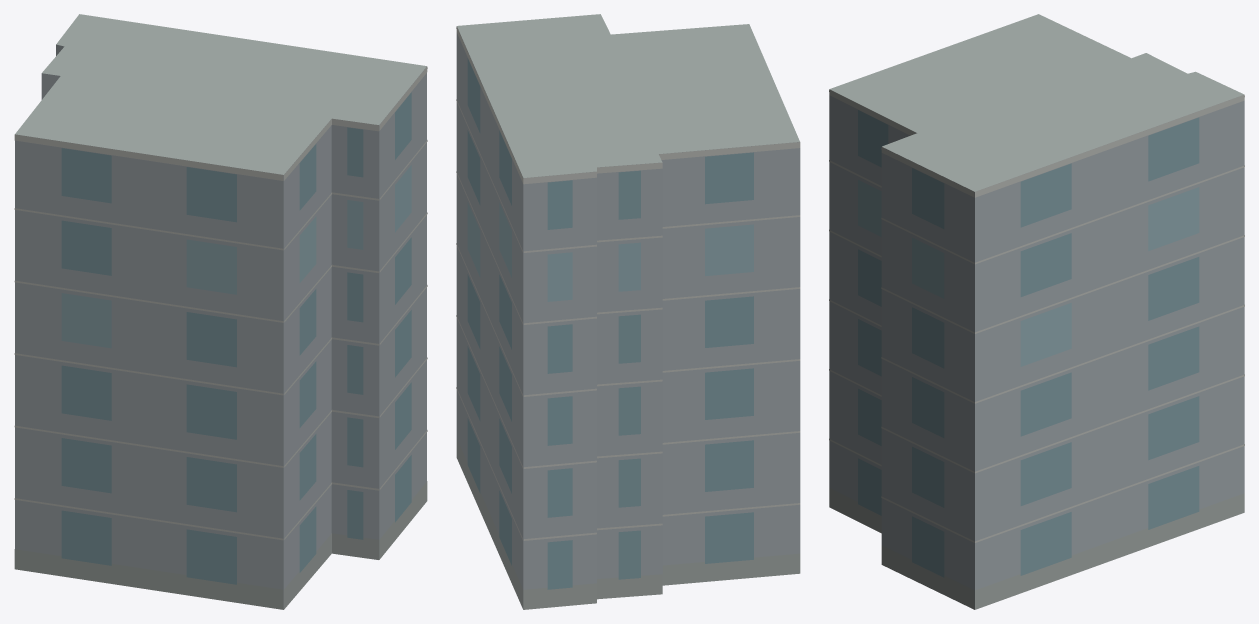
Rendered from survey-upis-32933123.glb.
The picture shows the model from 3 angles, left to right: view 1: azimuth 30°, elevation 25°; view 2: azimuth 150°, elevation 25°; view 3: azimuth 270°, elevation 25°; orthographic projection. The views are drawn at different scales.
Parts seen in each view (by area): view 1: survey-upis-32933123.tmp; view 2: survey-upis-32933123.tmp; view 3: survey-upis-32933123.tmp.
Boxes of the visible parts, bbox=[...] form: survey-upis-32933123.tmp: bbox=[14, 14, 427, 609]; survey-upis-32933123.tmp: bbox=[456, 14, 800, 609]; survey-upis-32933123.tmp: bbox=[829, 14, 1244, 609].
Size of the model in its own units: 15.53 by 17 by 15.32.
